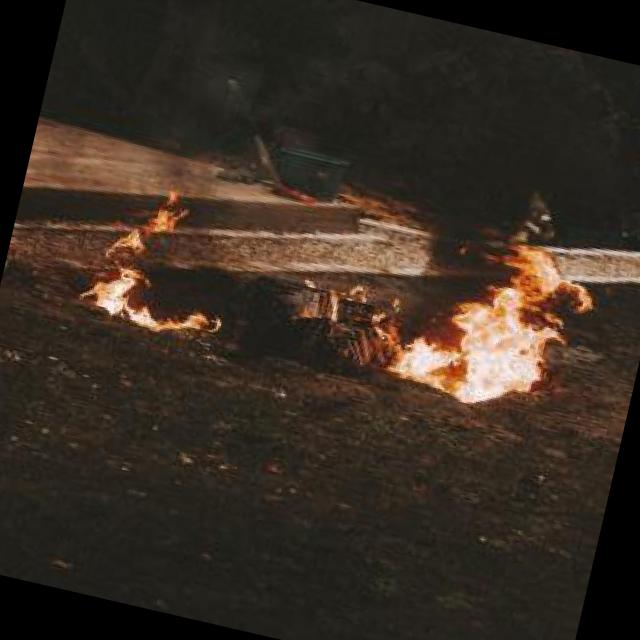Fire: (397, 226, 599, 425), (54, 183, 250, 354)
